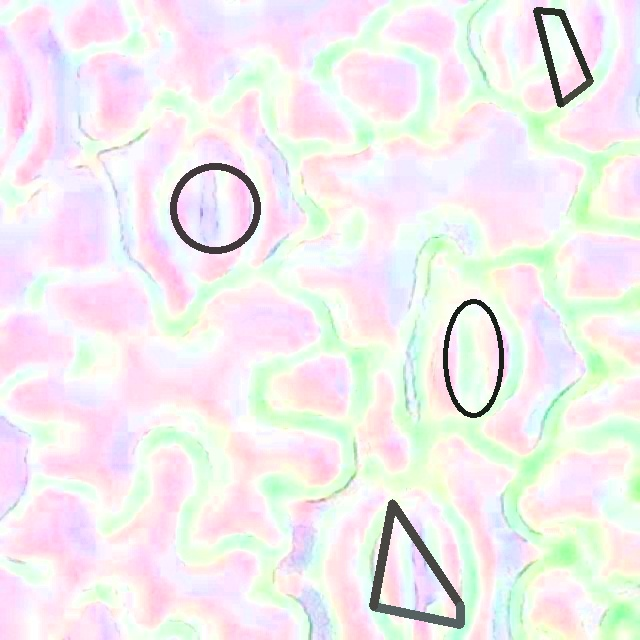close: (442, 298, 504, 419), (534, 10, 593, 106)
open: (369, 499, 464, 628), (169, 163, 261, 254)
